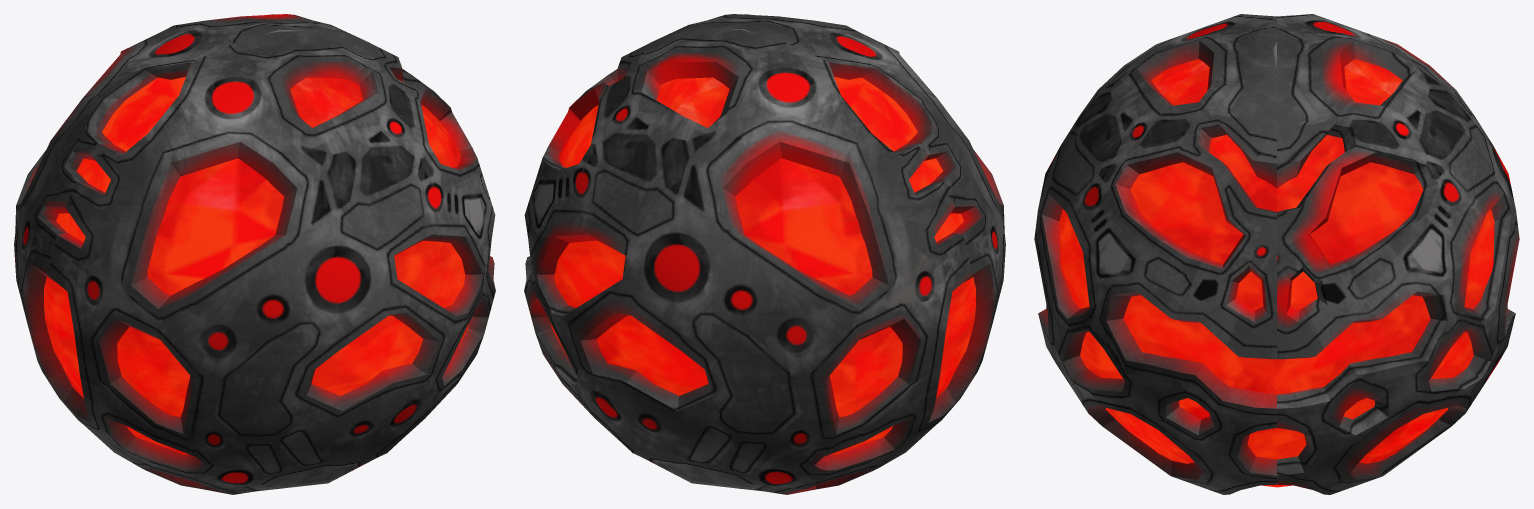
Rendered from ham_enemy.fbx.
3 renders of one model, left to right at view 1: azimuth 30°, elevation 25°; view 2: azimuth 150°, elevation 25°; view 3: azimuth 270°, elevation 25°, orthographic.
Visible parts, largest first — view 1: enemy_ball, enemy_self_illuminated; view 2: enemy_ball, enemy_self_illuminated; view 3: enemy_ball, enemy_self_illuminated.
Boxes of the visible parts, x1,y1,x2,y2 form: enemy_ball: [14, 14, 495, 494]; enemy_self_illuminated: [44, 77, 469, 454]; enemy_ball: [524, 14, 1005, 494]; enemy_self_illuminated: [550, 77, 975, 454]; enemy_ball: [1034, 14, 1519, 494]; enemy_self_illuminated: [1059, 59, 1494, 487].
Size of the model in its own units: 0.0199 by 0.0199 by 0.0198.
